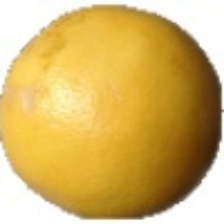grapes: (45, 13, 204, 206)
